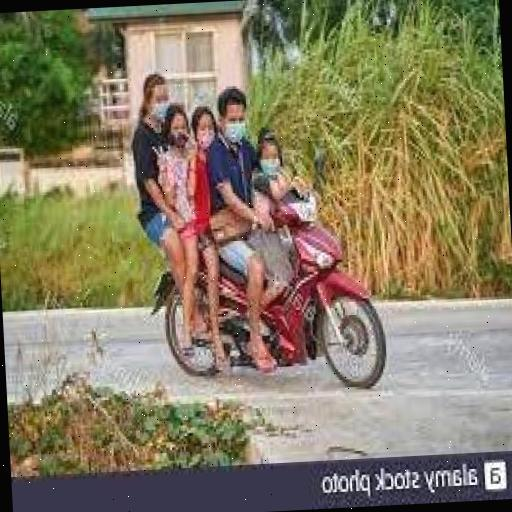no helmet: (200, 68, 268, 192)
triple riding: (122, 41, 400, 406)
